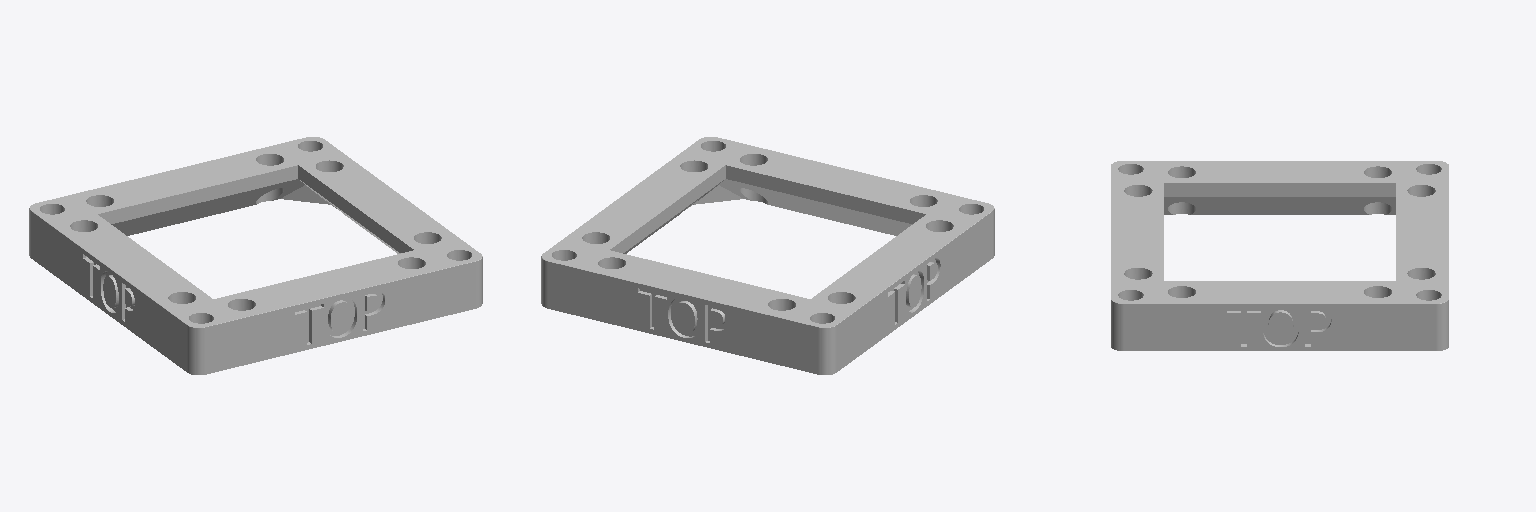
Rendered from Cube 1x1 V5_Cube 1x1 Top V5_1.obj.
3 views of the same model, side by side, from view 1: azimuth 30°, elevation 25°; view 2: azimuth 150°, elevation 25°; view 3: azimuth 270°, elevation 25° (orthographic).
Visible parts, largest first — view 1: Solid1:37; view 2: Solid1:37; view 3: Solid1:37.
Part boxes in pixels (x1,y1,x2,y2): Solid1:37: (29, 137, 482, 374); Solid1:37: (541, 137, 994, 374); Solid1:37: (1111, 161, 1448, 350).
Size of the model in its own units: 49.8 by 7.7 by 49.8.